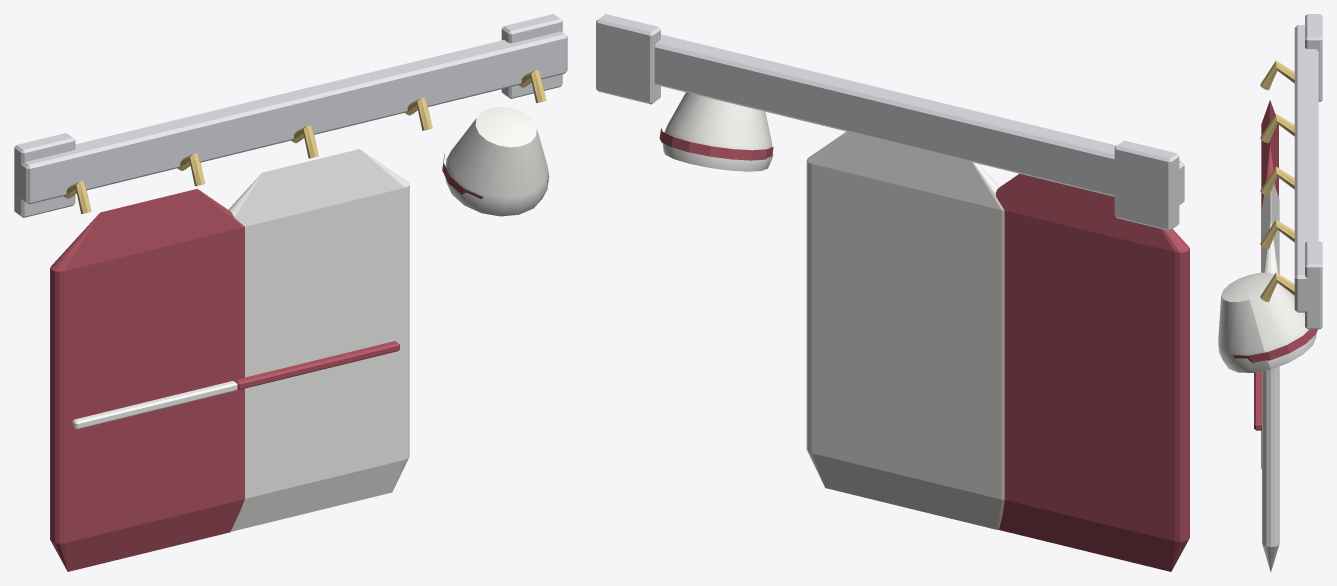
Rendered from butchers-shop-and-deli-counter-apron-and-hat-rail-8b8d5600__34457.glb.
The picture shows the model from 3 angles, left to right: view 1: azimuth 30°, elevation 25°; view 2: azimuth 150°, elevation 25°; view 3: azimuth 270°, elevation 25°; orthographic projection. The views are drawn at different scales.
Visible parts, largest first — view 1: apron-and-hat-rail; view 2: apron-and-hat-rail; view 3: apron-and-hat-rail.
Part boxes in pixels (x1=…): apron-and-hat-rail: x1=14, y1=14, x2=567, y2=571; apron-and-hat-rail: x1=596, y1=14, x2=1189, y2=571; apron-and-hat-rail: x1=1218, y1=14, x2=1322, y2=571.
Bounding box in the file's own units: 1 × 0.73 × 0.1753.
